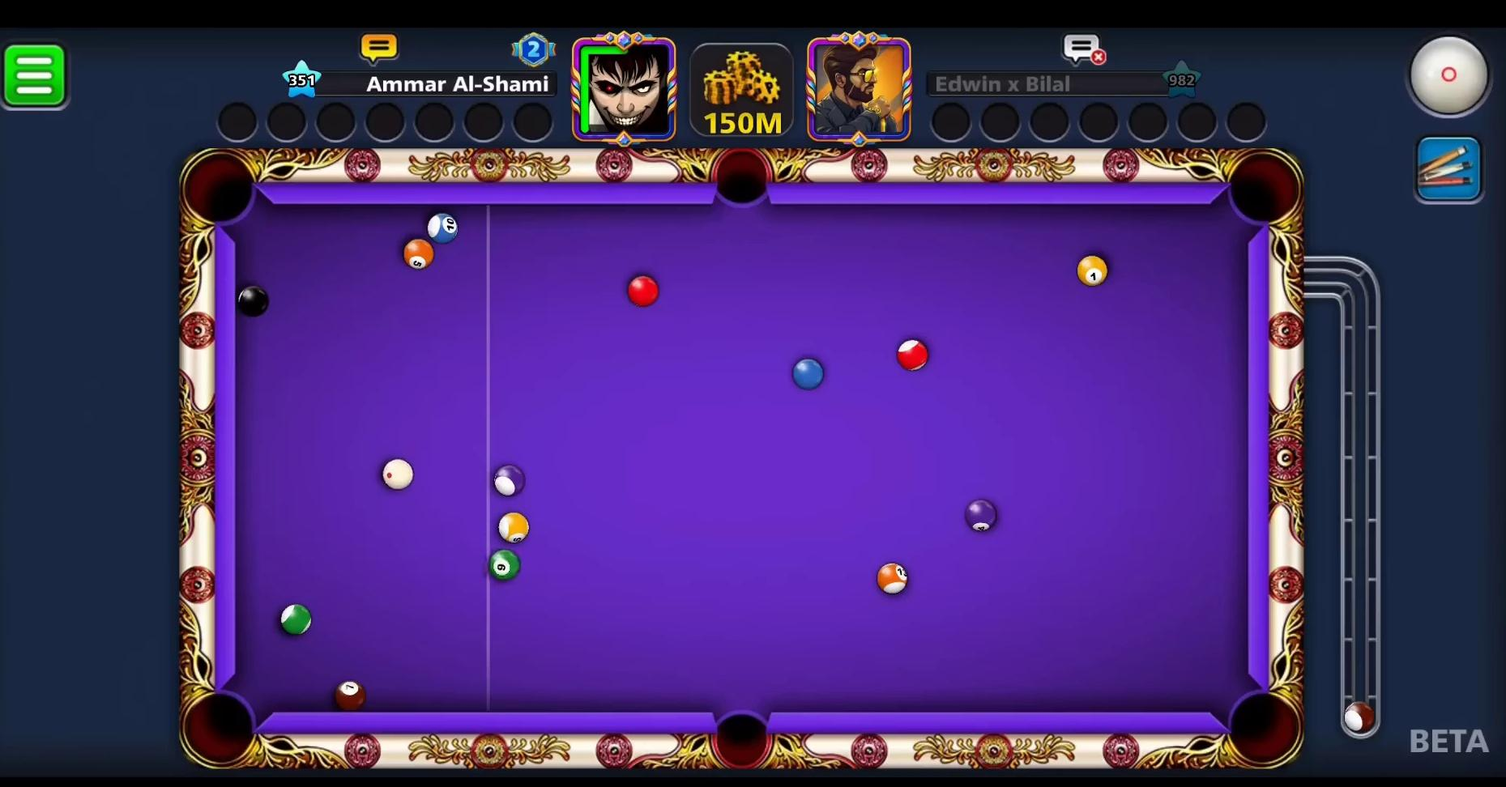Ball: (417, 202, 469, 258), (225, 280, 278, 322), (872, 551, 913, 602), (617, 272, 667, 313), (272, 599, 321, 640), (486, 459, 535, 500), (323, 675, 374, 713), (959, 493, 1002, 538), (482, 546, 528, 588), (397, 235, 442, 276), (892, 334, 935, 376), (1072, 252, 1116, 291), (493, 508, 535, 548), (789, 353, 827, 393)
Hole: (169, 679, 271, 775), (176, 140, 270, 234), (1217, 138, 1306, 236), (1215, 683, 1308, 776), (702, 141, 783, 224), (702, 694, 782, 778)
Play_Area: (236, 203, 1243, 712)
Spin: (1401, 27, 1504, 129)
White: (372, 453, 420, 491)
